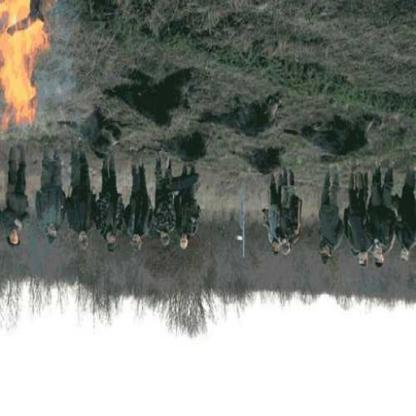boar: (103, 55, 210, 125), (293, 97, 383, 165), (218, 69, 289, 145), (154, 126, 214, 175), (79, 116, 129, 159), (227, 147, 293, 175)
